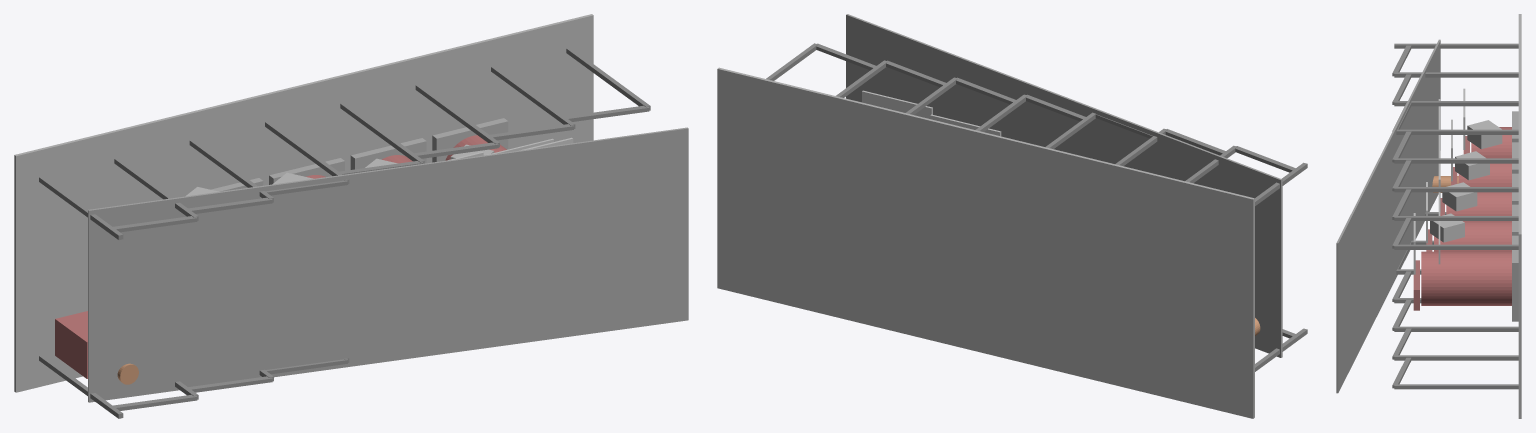
Rendered from adsorption_circuit_concept_v2.glb.
3 views of the same model, side by side, from view 1: azimuth 30°, elevation 25°; view 2: azimuth 150°, elevation 25°; view 3: azimuth 270°, elevation 25° (orthographic). The views are drawn at different scales.
Parts seen in each view (by area): view 1: STR_ROOF_MAIN, FLOOR_MAIN, DUCT_BASE_LEFT, FDN_140_CC_001, FDN_140_CC_002, STR_COL_01_R, STR_COL_06_R, STR_COL_07_R, STR_COL_01_L, STR_COL_08_R, STR_COL_05_R, STR_COL_04_R (+3 smaller); view 2: FLOOR_MAIN, STR_ROOF_MAIN, PLAT_140_CC_001; view 3: STR_ROOF_MAIN, COL_140_CC_001, FLOOR_MAIN, COL_140_CC_002, COL_140_CC_003, COL_140_CC_004, STR_COL_08_L, STR_COL_08_R, STR_COL_05_R, STR_COL_06_L, STR_COL_07_L, STR_COL_06_R (+28 smaller).
Boxes of the visible parts, x1=… form: STR_ROOF_MAIN: x1=88, y1=127, x2=688, y2=402; FLOOR_MAIN: x1=14, y1=14, x2=593, y2=392; DUCT_BASE_LEFT: x1=55, y1=311, x2=87, y2=378; FDN_140_CC_001: x1=432, y1=118, x2=508, y2=162; FDN_140_CC_002: x1=350, y1=138, x2=426, y2=169; STR_COL_01_R: x1=39, y1=176, x2=123, y2=239; STR_COL_06_R: x1=415, y1=84, x2=499, y2=147; STR_COL_07_R: x1=491, y1=66, x2=575, y2=128; STR_COL_01_L: x1=39, y1=355, x2=123, y2=418; STR_COL_08_R: x1=566, y1=47, x2=650, y2=110; STR_COL_05_R: x1=340, y1=102, x2=424, y2=163; STR_COL_04_R: x1=265, y1=121, x2=349, y2=184; FLOOR_MAIN: x1=717, y1=67, x2=1254, y2=418; STR_ROOF_MAIN: x1=846, y1=14, x2=1282, y2=357; PLAT_140_CC_001: x1=862, y1=90, x2=932, y2=118; STR_ROOF_MAIN: x1=1336, y1=39, x2=1440, y2=393; COL_140_CC_001: x1=1421, y1=251, x2=1511, y2=305; FLOOR_MAIN: x1=1518, y1=14, x2=1521, y2=418; COL_140_CC_002: x1=1434, y1=221, x2=1511, y2=251; COL_140_CC_003: x1=1446, y1=192, x2=1511, y2=215; COL_140_CC_004: x1=1458, y1=163, x2=1511, y2=186; STR_COL_08_L: x1=1394, y1=384, x2=1518, y2=389; STR_COL_08_R: x1=1394, y1=244, x2=1518, y2=249; STR_COL_05_R: x1=1394, y1=158, x2=1518, y2=163; STR_COL_06_L: x1=1394, y1=326, x2=1518, y2=331; STR_COL_07_L: x1=1394, y1=355, x2=1518, y2=360; STR_COL_06_R: x1=1394, y1=187, x2=1518, y2=192.
Size of the model in its own units: 46 by 18 by 16.36.
